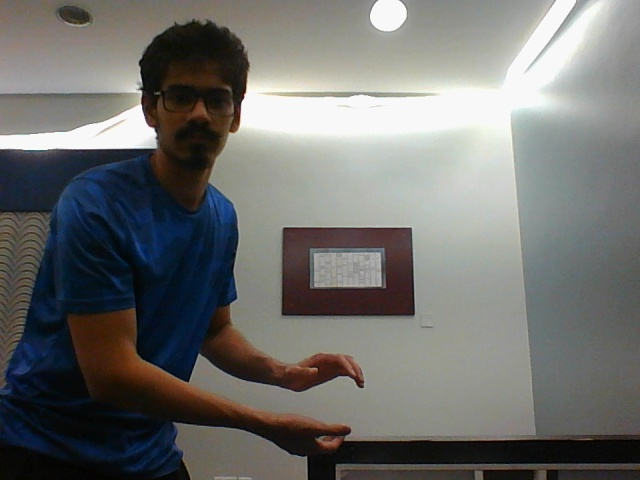charge: (275, 344, 364, 458)
